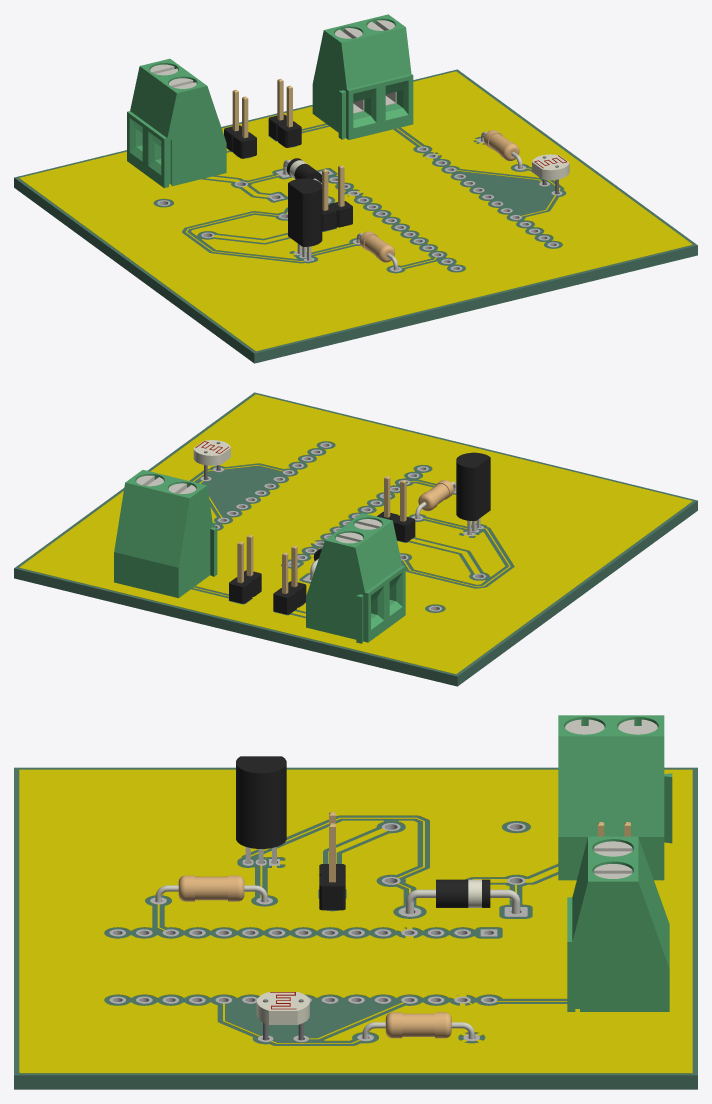
File: project.glb
3 renders of one model, top to bottom at view 1: azimuth 30°, elevation 25°; view 2: azimuth 150°, elevation 25°; view 3: azimuth 270°, elevation 25°, orthographic. The views are drawn at different scales.
Visible parts, largest first — view 1: =>[0:1:1:8], =>[0:1:1:10], SW2, SW1, Q1, =>[0:1:1:9], J1, J2, LA1, R2, R3, R1 (+1 smaller); view 2: =>[0:1:1:8], =>[0:1:1:10], SW2, SW1, Q1, =>[0:1:1:9], J1, J2, LA1, R2, R3; view 3: =>[0:1:1:8], =>[0:1:1:10], SW2, SW1, Q1, =>[0:1:1:9], D1, R3, R1, R2, LA1.
Boxes of the visible parts, x1,y1,x2,y2 form: =>[0:1:1:8]: (19,71,692,351); =>[0:1:1:10]: (14,69,697,363); SW2: (312,14,413,139); SW1: (127,58,226,188); Q1: (288,178,322,260); =>[0:1:1:9]: (157,138,562,271); J1: (268,78,301,147); J2: (224,89,256,158); LA1: (322,165,352,231); R2: (532,154,569,194); R3: (356,231,398,270); R1: (481,130,522,168); =>[0:1:1:8]: (19,394,692,674); =>[0:1:1:10]: (14,392,697,686); SW2: (114,470,217,598); SW1: (306,513,405,643); Q1: (456,452,490,534); =>[0:1:1:9]: (200,442,485,611); J1: (229,534,261,603); J2: (273,545,306,614); LA1: (377,476,415,542); R2: (193,440,230,479); R3: (415,480,456,518); =>[0:1:1:8]: (19,769,692,1073); =>[0:1:1:10]: (14,767,697,1089); SW2: (567,836,669,1011); SW1: (558,715,672,880); Q1: (236,756,286,863); =>[0:1:1:9]: (109,823,527,1042); D1: (405,879,520,913); R3: (155,875,267,902); R1: (362,1012,474,1039); R2: (256,992,309,1040); LA1: (319,812,345,910).
Size of the model in its own units: 0.0697 by 0.0173 by 0.0655.
